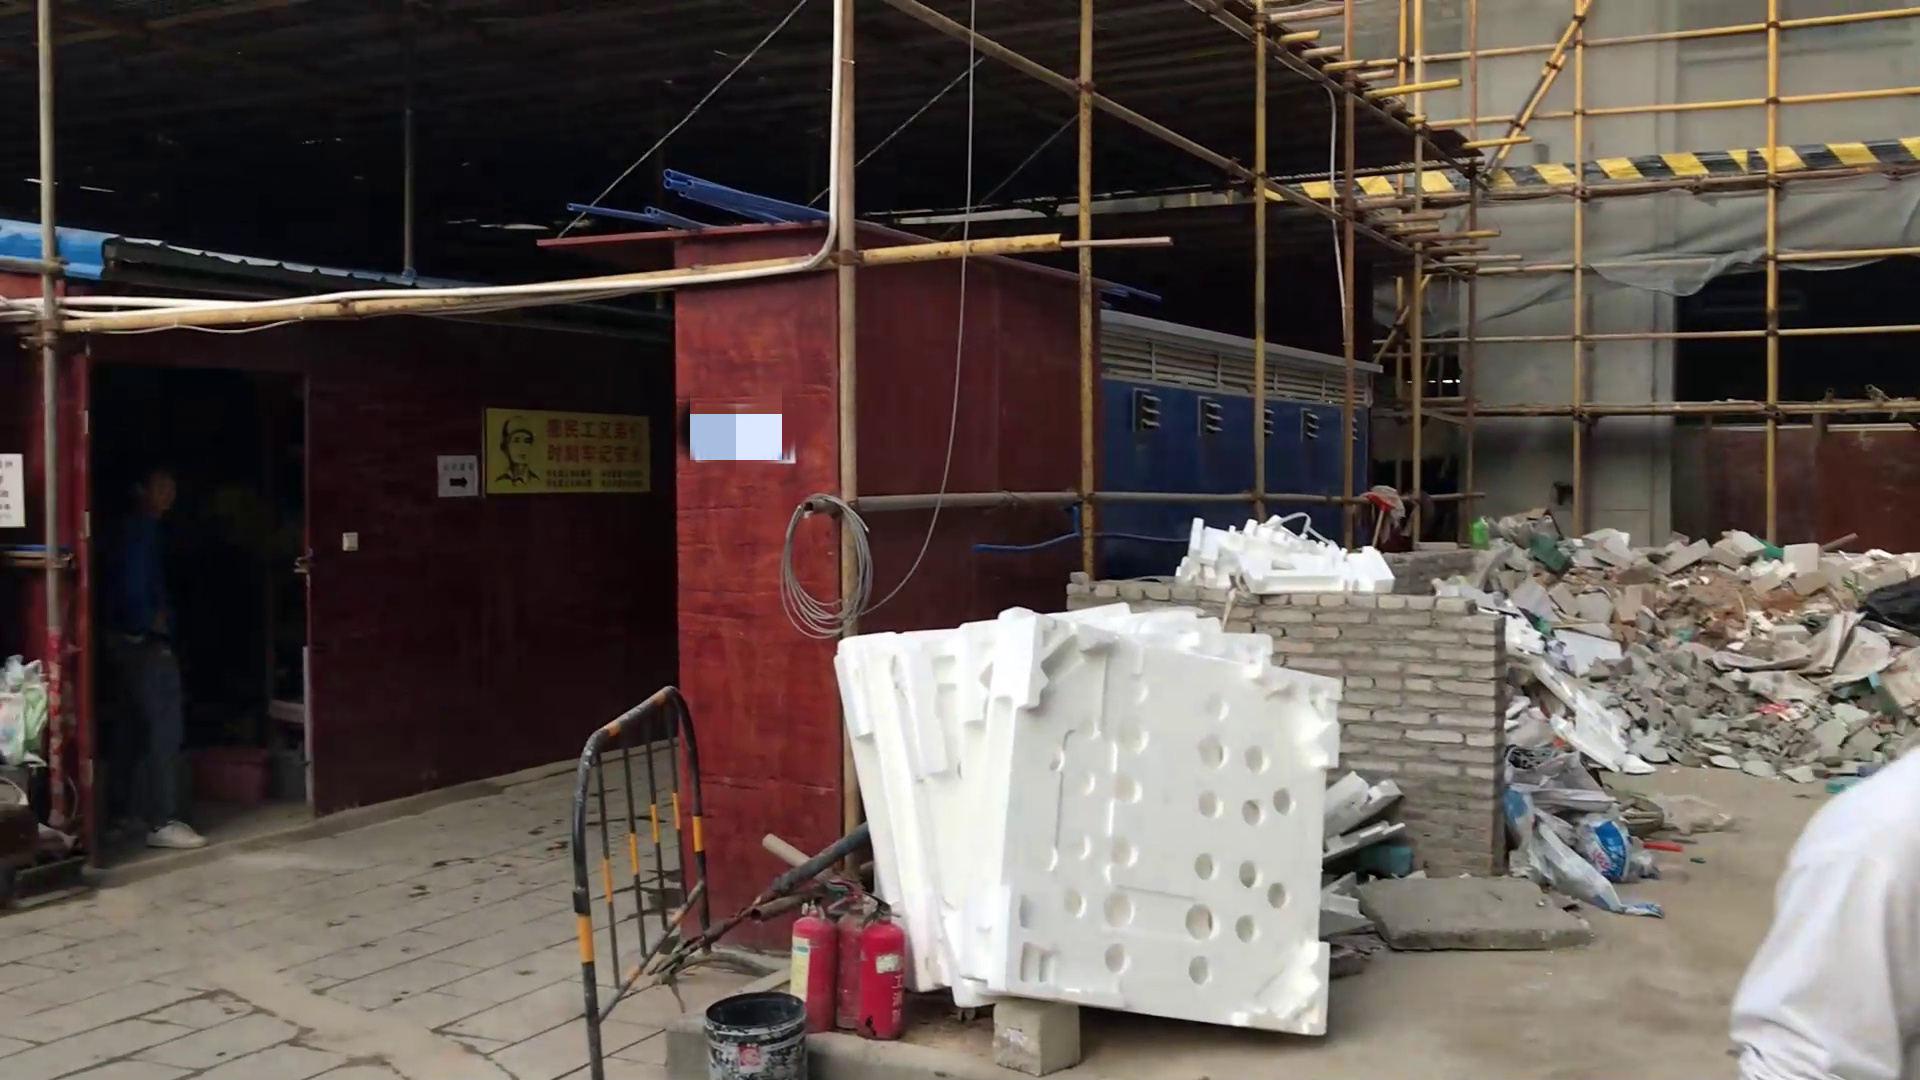slogan: (477, 382, 662, 510)
